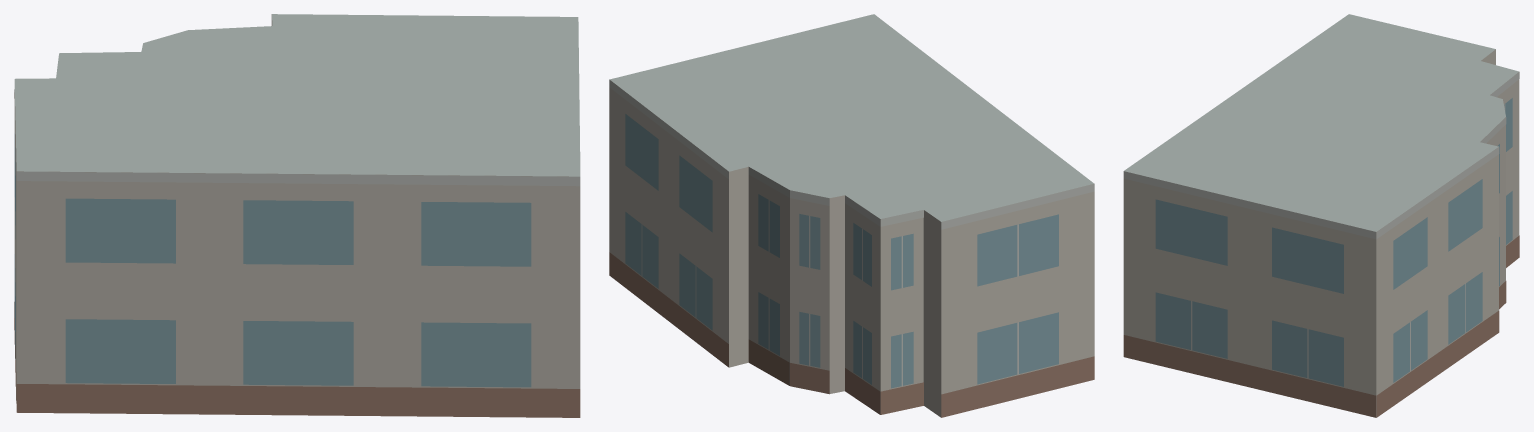
Rendered from survey-upis-32993391.glb.
The picture shows the model from 3 angles, left to right: view 1: azimuth 30°, elevation 25°; view 2: azimuth 150°, elevation 25°; view 3: azimuth 270°, elevation 25°; orthographic projection. The views are drawn at different scales.
Visible parts, largest first — view 1: survey-upis-32993391.tmp; view 2: survey-upis-32993391.tmp; view 3: survey-upis-32993391.tmp.
Part boxes in pixels (box(x1,y1,x2,y2)): survey-upis-32993391.tmp: box(14, 14, 580, 417); survey-upis-32993391.tmp: box(609, 14, 1094, 417); survey-upis-32993391.tmp: box(1123, 14, 1519, 417).
Size of the model in its own units: 15.34 by 6.1 by 11.78.
